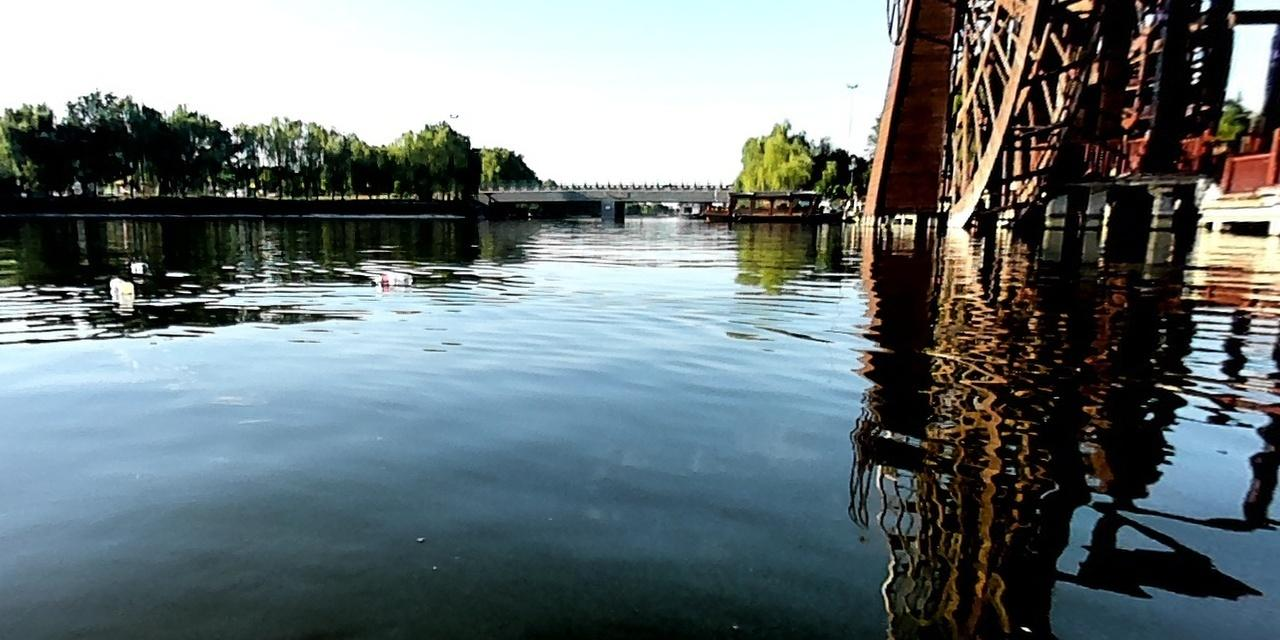bottle: (367, 268, 414, 287), (106, 276, 135, 297), (126, 260, 153, 271)
